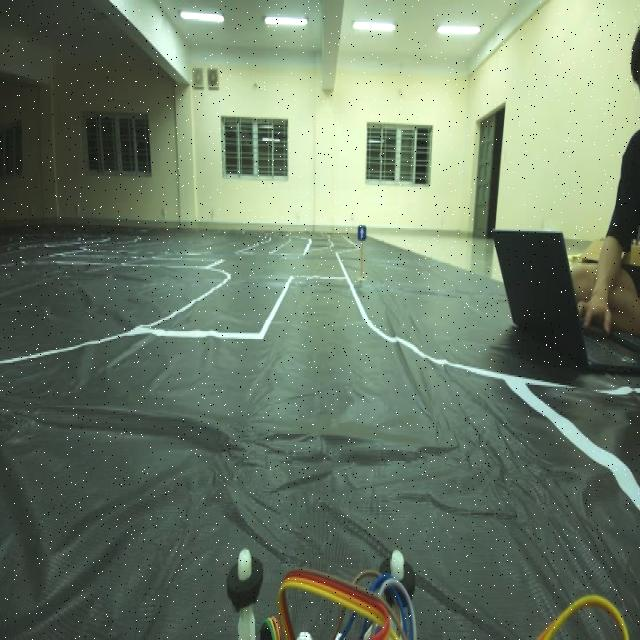onewayroad: (356, 220, 370, 242)
